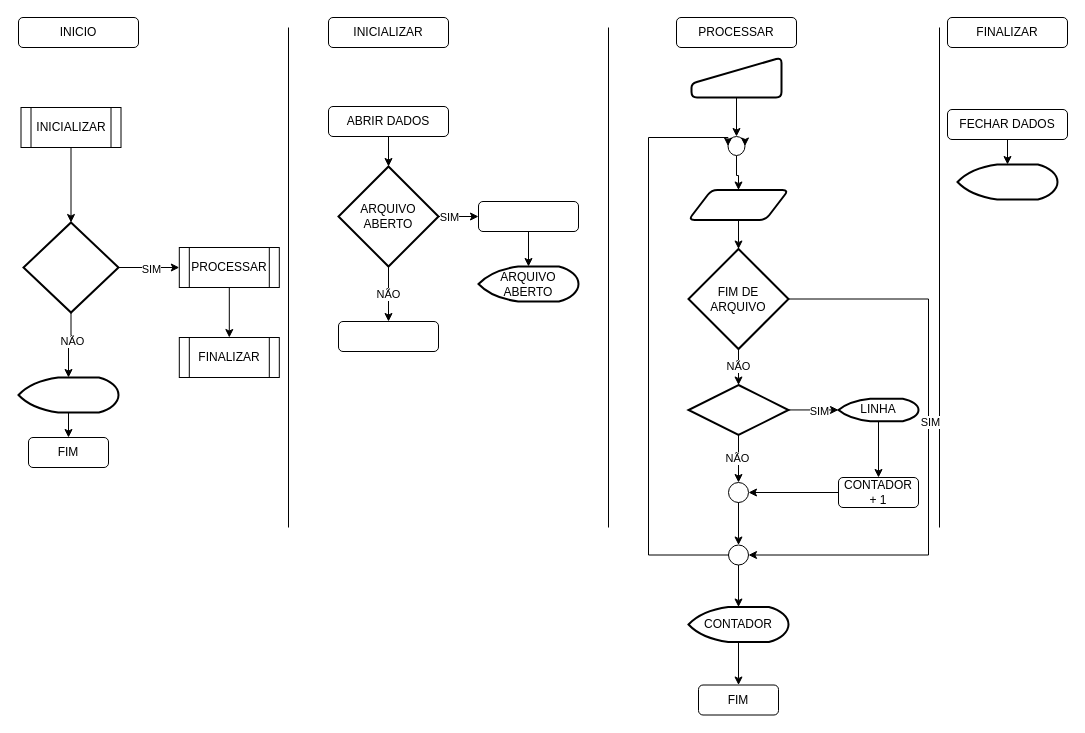
The diagram is 1085 pixels wide and 733 high, and some of its shapes have lost their labels. The shapes that lost their labels are listed below. From the top down, each one's centre as x and y in pixels, then its label:
the point at 736,77: VAR_CODIGO
the point at 1007,181: DADOS FECHADOS
the point at 528,216: VA_ARQUIVO = TRUE
the point at 738,204: DADOS
the point at 70,267: VAR_ARQUIVO_EXISTE
the point at 388,336: VA_ARQUIVO = FALSE
the point at 68,394: ARQUIVO NÃO EXISTE
the point at 738,410: CODIGO = VAR_CODIGO
